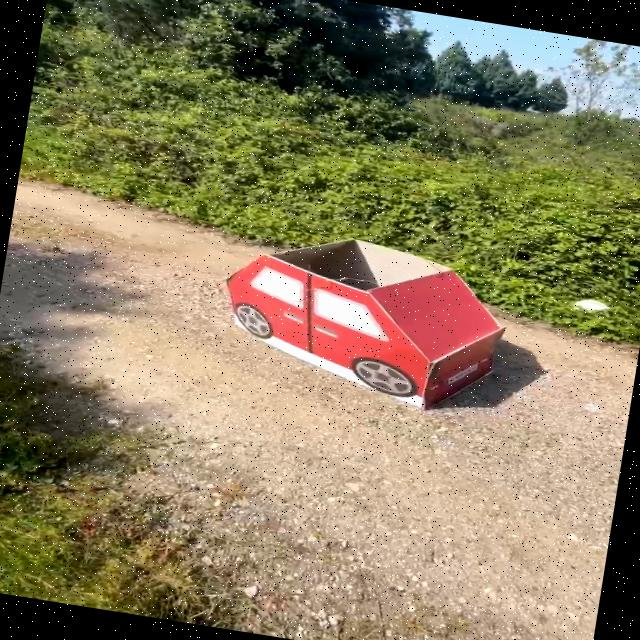red_car: (180, 204, 553, 463)
